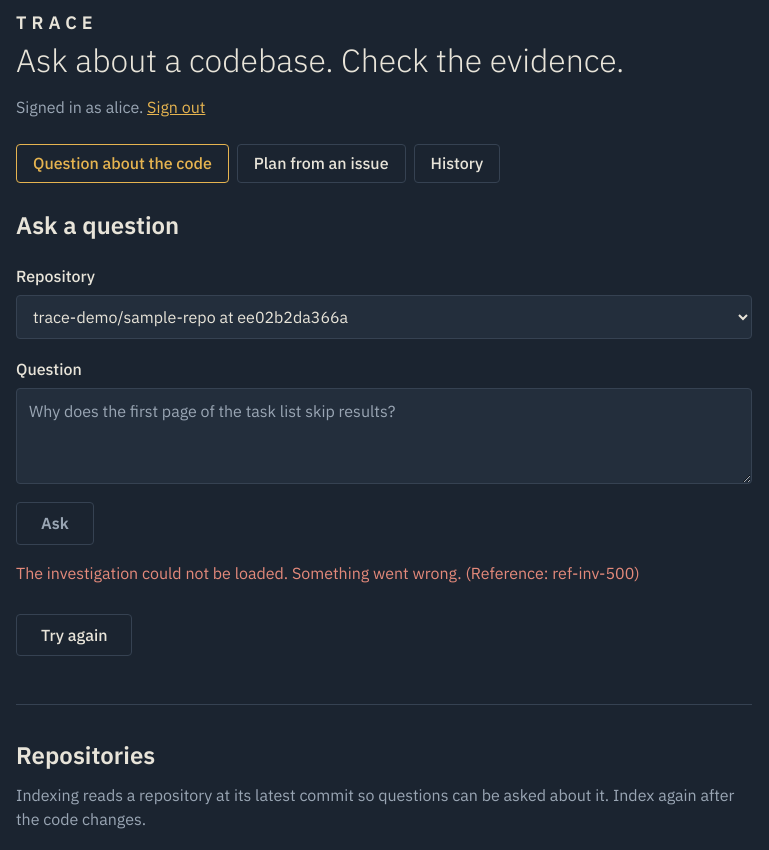
Test: a direct link › to an investigation the API fails to return shows an error with the reference, not the not-found page
This screenshot has width=769, height=850.
Expected: the message shows "The investigation could not be loaded. Something went wrong. (Reference: ref-inv-500)", [16, 563, 640, 583]
Step 1. Click the button "Try again" → (74, 635), box [16, 614, 132, 656]
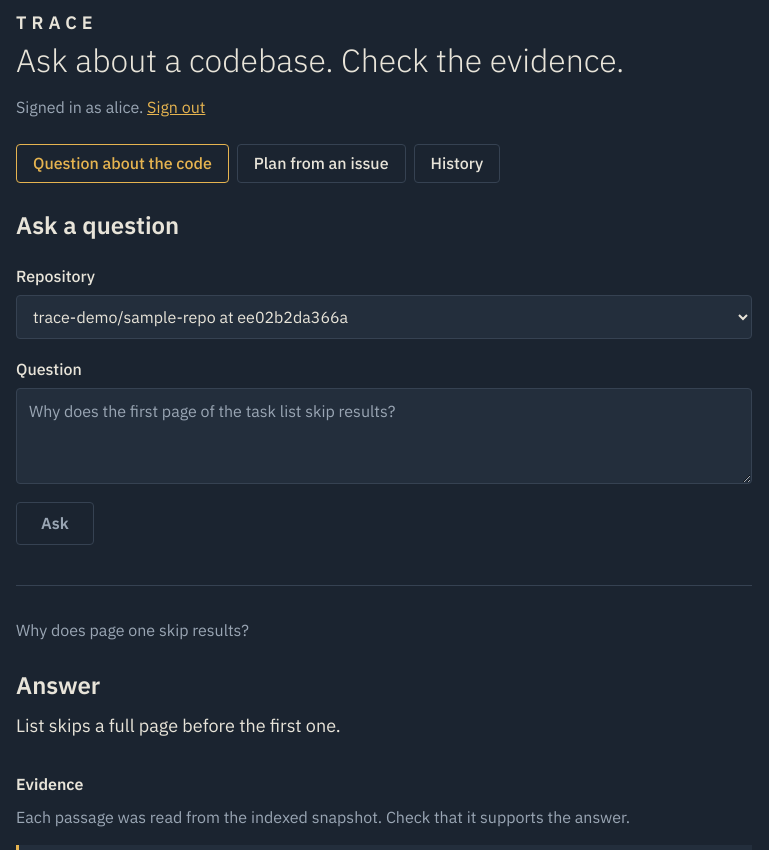
Expected: the heading "Answer" is shown, [16, 669, 100, 701]
